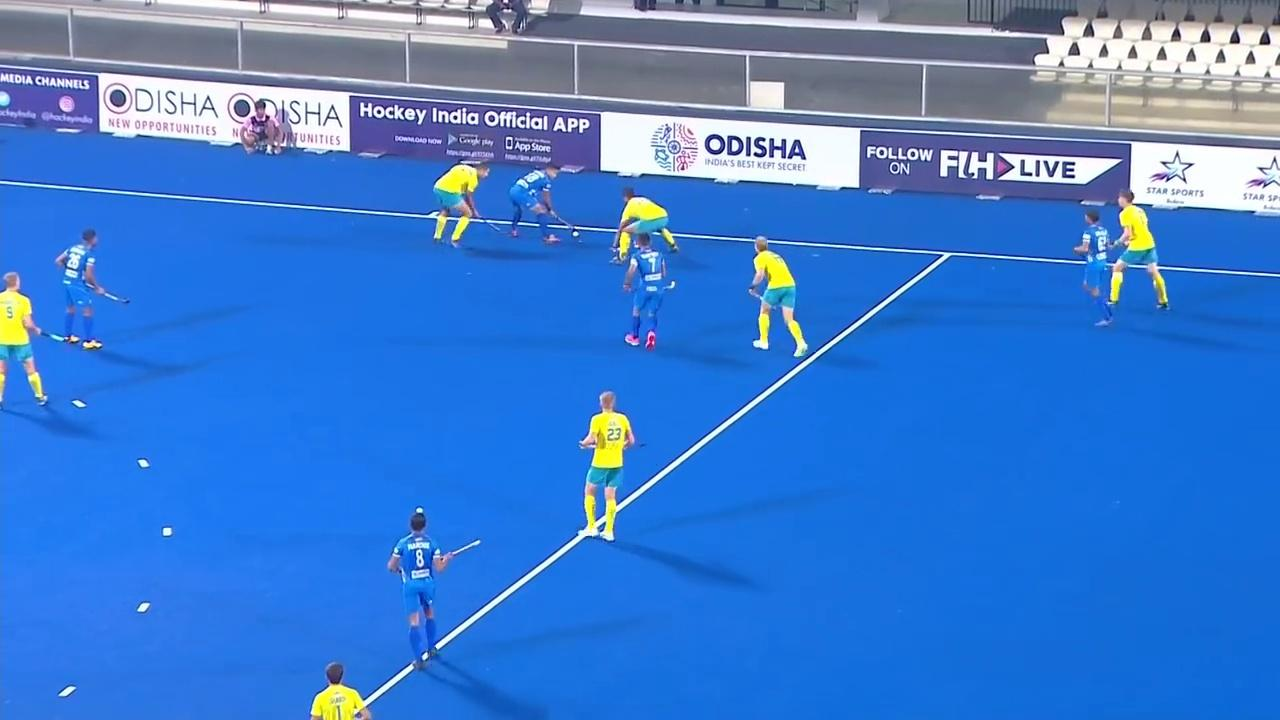ball: (566, 227, 582, 243)
